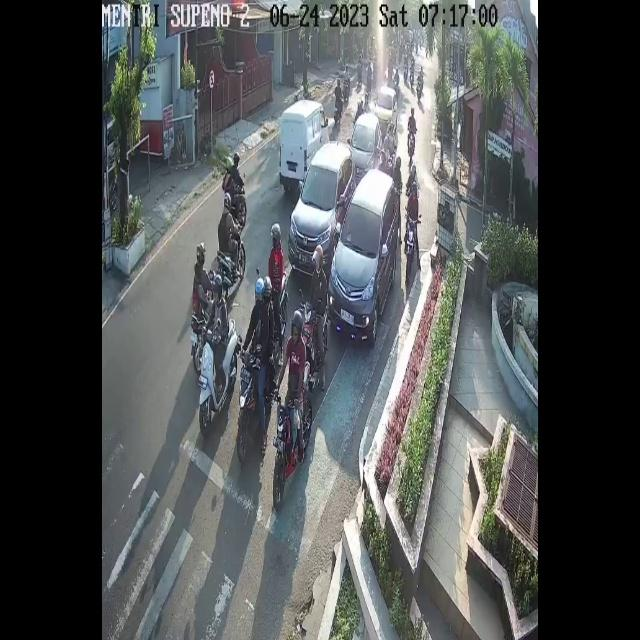bus: (273, 360, 312, 510), (198, 317, 241, 441), (235, 350, 260, 466), (190, 270, 218, 372), (214, 218, 246, 284), (300, 300, 327, 365), (225, 177, 248, 226), (405, 213, 418, 283), (274, 270, 288, 335), (408, 126, 416, 164), (333, 97, 343, 122), (343, 77, 351, 102), (417, 78, 422, 104)
motorcycle: (328, 168, 398, 350), (288, 141, 356, 276), (279, 100, 329, 184), (352, 112, 382, 180), (377, 84, 398, 133)
